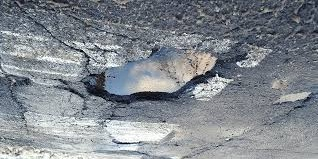pothole: (92, 42, 226, 104), (273, 88, 313, 108)
